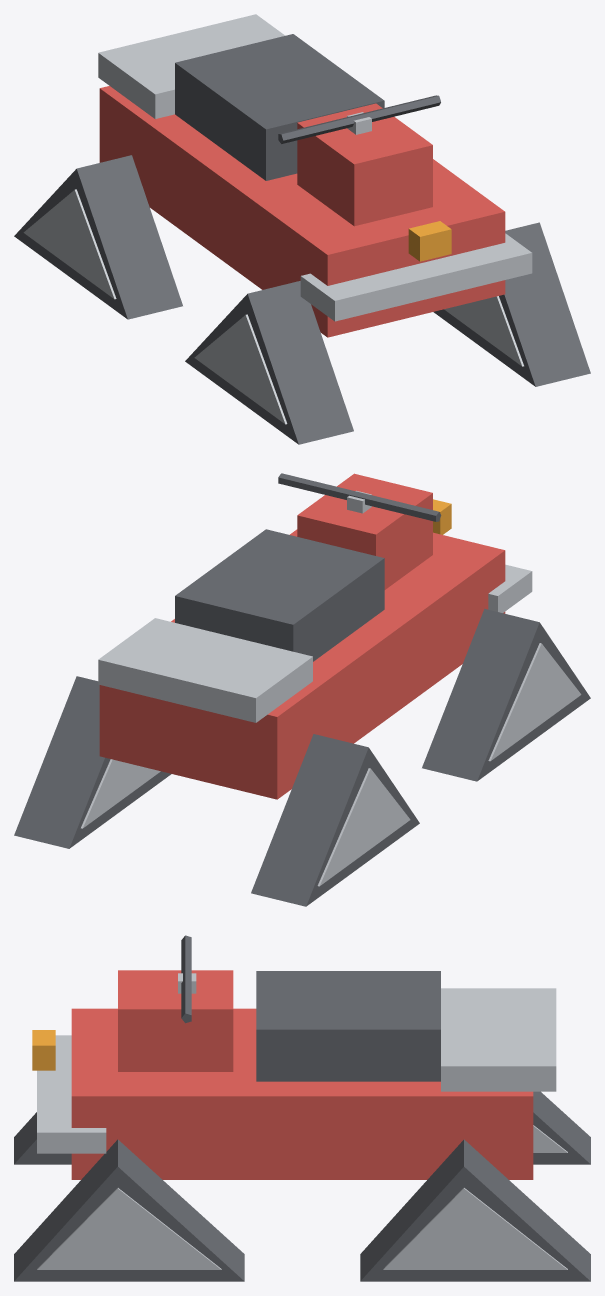
File: ski-resort-and-snow-park-tracked-quad-46bcfb83__26008.glb
3 renders of one model, top to bottom at view 1: azimuth 30°, elevation 25°; view 2: azimuth 150°, elevation 25°; view 3: azimuth 270°, elevation 25°, orthographic.
Parts seen in each view (by area): view 1: tracked-quad; view 2: tracked-quad; view 3: tracked-quad.
Part boxes in pixels (bbox=[...]): tracked-quad: bbox=[14, 14, 590, 444]; tracked-quad: bbox=[14, 473, 590, 906]; tracked-quad: bbox=[14, 935, 590, 1281].
Size of the model in its own units: 1.5 by 1.12 by 2.5.
